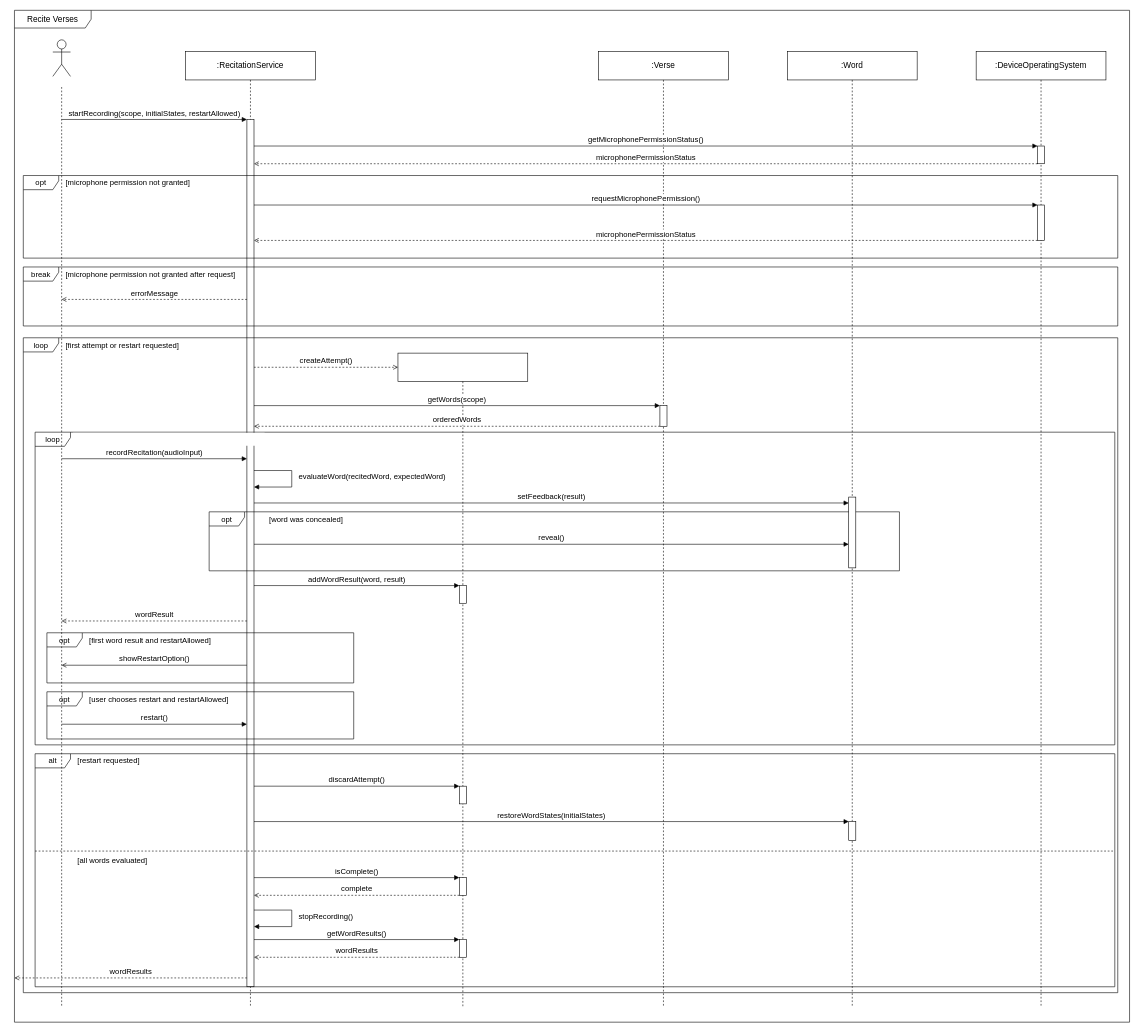
This 1140x1033 diagram has some shape labels left out. The shapes that lost their labels are listed below. From the top down, each one's centre as x and y in pixels, then its label:
At point 61,57: "User".
At point 462,367: ":RecitationAttempt".
At point 168,438: "[each unevaluated word while no restart is requested]".
